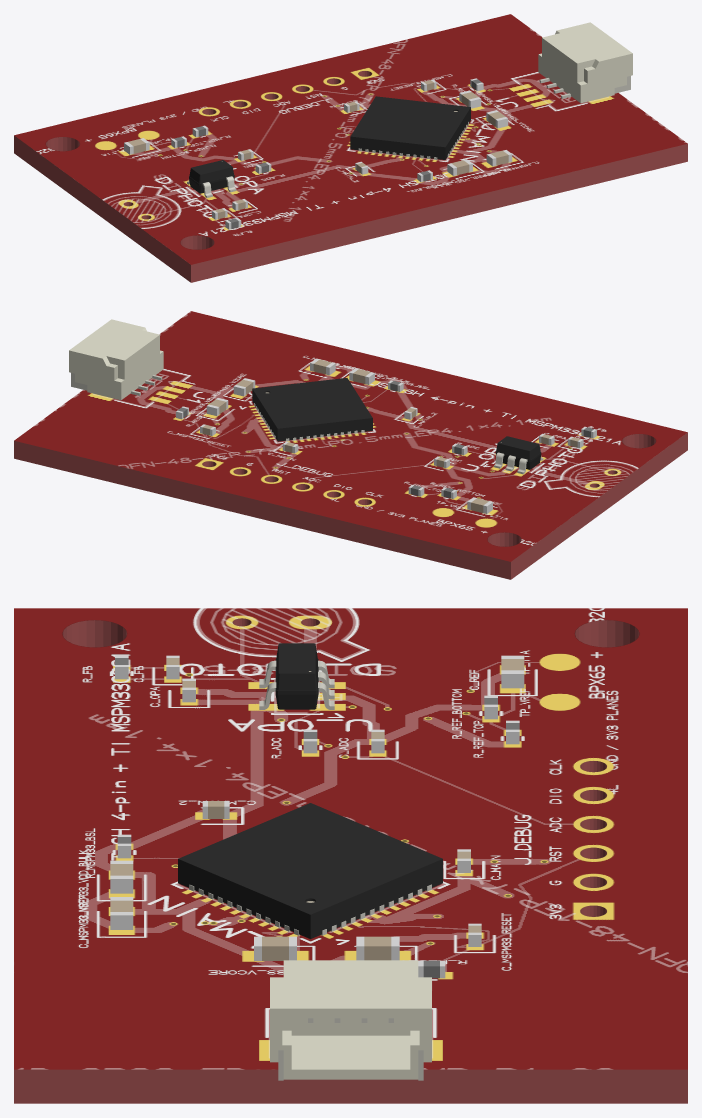
3 renders of one model, top to bottom at view 1: azimuth 30°, elevation 25°; view 2: azimuth 150°, elevation 25°; view 3: azimuth 270°, elevation 25°, orthographic. The views are drawn at different scales.
Parts seen in each view (by area): view 1: Box0, U_MAIN, J1, U_OPA; view 2: Box0, U_MAIN, J1, U_OPA; view 3: Box0, U_MAIN, J1, U_OPA, C_MSPM33_VBAT, C_MSPM33_VCORE, C_MSPM33_VDD_BULK, C_REF, C_MSPM33_VREF.
Part boxes in pixels (x1,y1,x2,y2): Box0: (14, 14, 687, 282); U_MAIN: (350, 96, 470, 159); J1: (538, 22, 632, 103); U_OPA: (187, 160, 236, 197); Box0: (14, 311, 687, 579); U_MAIN: (252, 378, 372, 441); J1: (69, 319, 163, 400); U_OPA: (494, 436, 543, 474); Box0: (14, 608, 687, 1103); U_MAIN: (178, 803, 442, 938); J1: (270, 960, 431, 1080); U_OPA: (259, 643, 334, 709); C_MSPM33_VBAT: (356, 936, 399, 960); C_MSPM33_VCORE: (254, 936, 296, 960); C_MSPM33_VDD_BULK: (110, 860, 133, 893); C_REF: (501, 655, 524, 688); C_MSPM33_VREF: (110, 897, 133, 929).
Size of the model in its own units: 41.5 by 4.36 by 25.
Materials: 10 (2 with a texture image).
